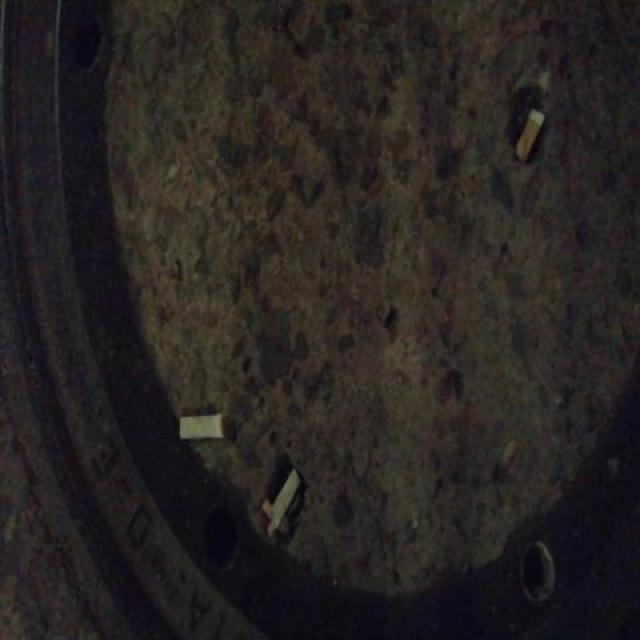non-organic waste: (268, 466, 304, 534), (514, 104, 546, 168), (174, 411, 227, 444)
